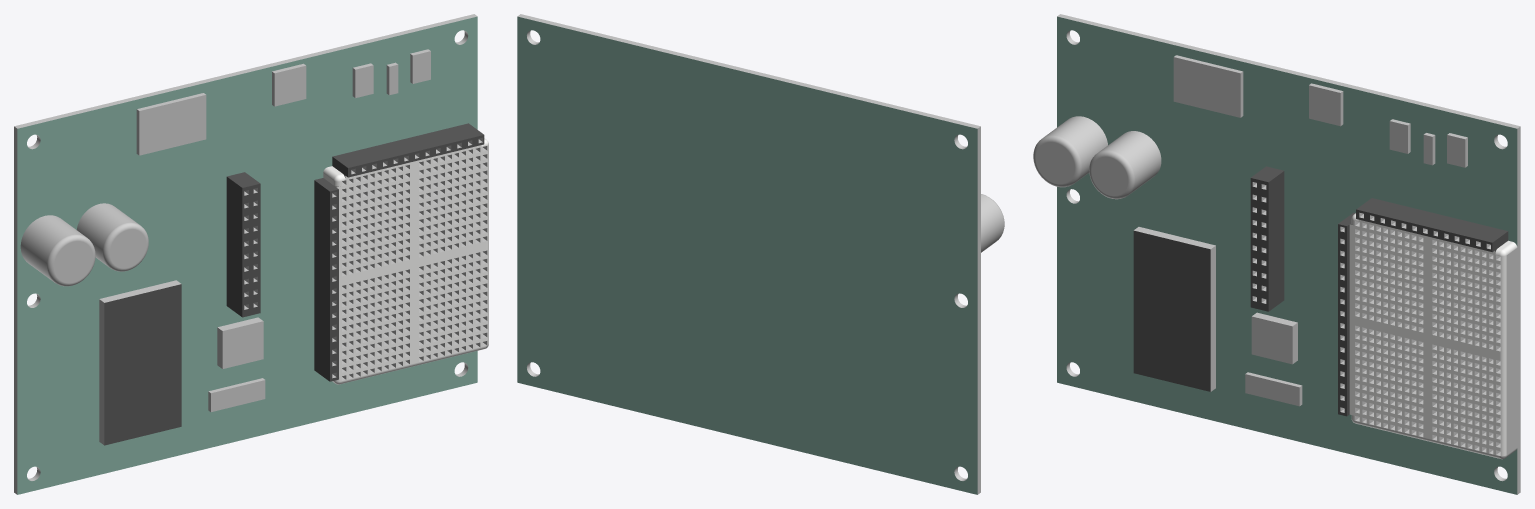
The picture shows the model from 3 angles, left to right: view 1: azimuth 30°, elevation 25°; view 2: azimuth 150°, elevation 25°; view 3: azimuth 330°, elevation 25°; orthographic projection.
Parts seen in each view (by area): view 1: Body1; view 2: Body1; view 3: Body1.
Part boxes in pixels (left/top/right/bottom): Body1: left=14, top=14, right=488, bottom=494; Body1: left=517, top=14, right=1004, bottom=494; Body1: left=1033, top=14, right=1520, bottom=494.
Bounding box in the file's own units: 0.1013 × 0.077 × 0.0123.
